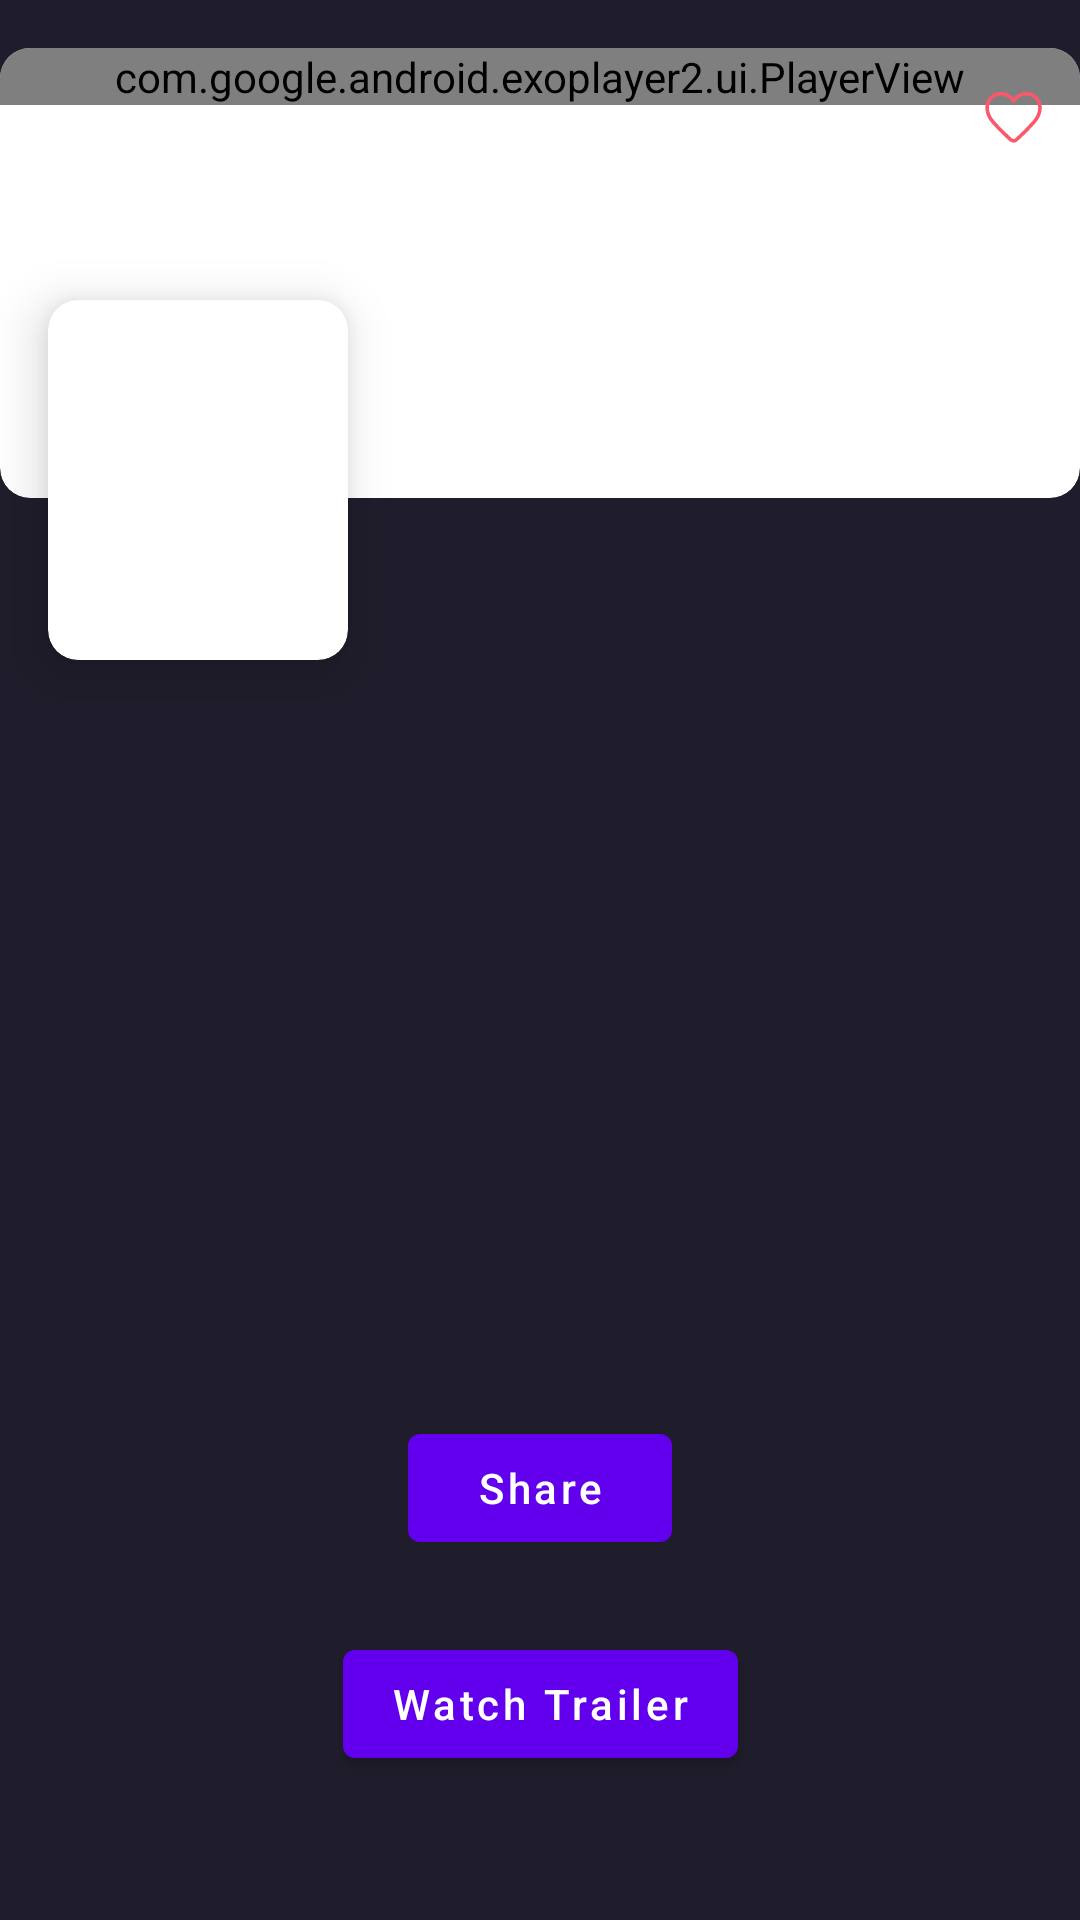

Named icons in this screenshot (1080px x 1920px) and their centers, (x,y):
wishlist empty: (1012,115)
